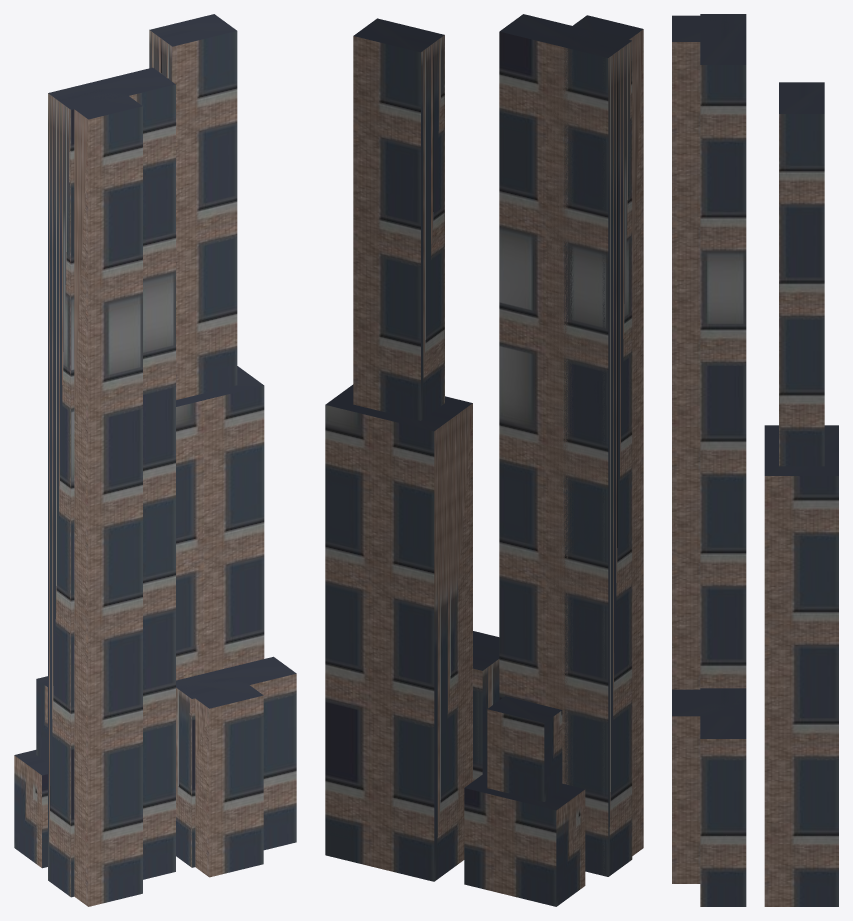
File: city_block_12345_6_14.glb
3 renders of one model, left to right at view 1: azimuth 30°, elevation 25°; view 2: azimuth 150°, elevation 25°; view 3: azimuth 270°, elevation 25°, orthographic. The views are drawn at different scales.
Parts seen in each view (by area): view 1: block_14; view 2: block_14; view 3: block_14.
Part boxes in pixels (x1,y1,x2,y2): block_14: (14, 14, 296, 906); block_14: (325, 14, 643, 906); block_14: (672, 14, 838, 906).
Bounding box in the file's own units: 4.2 × 14 × 2.7.
4 materials, 4 textured.
